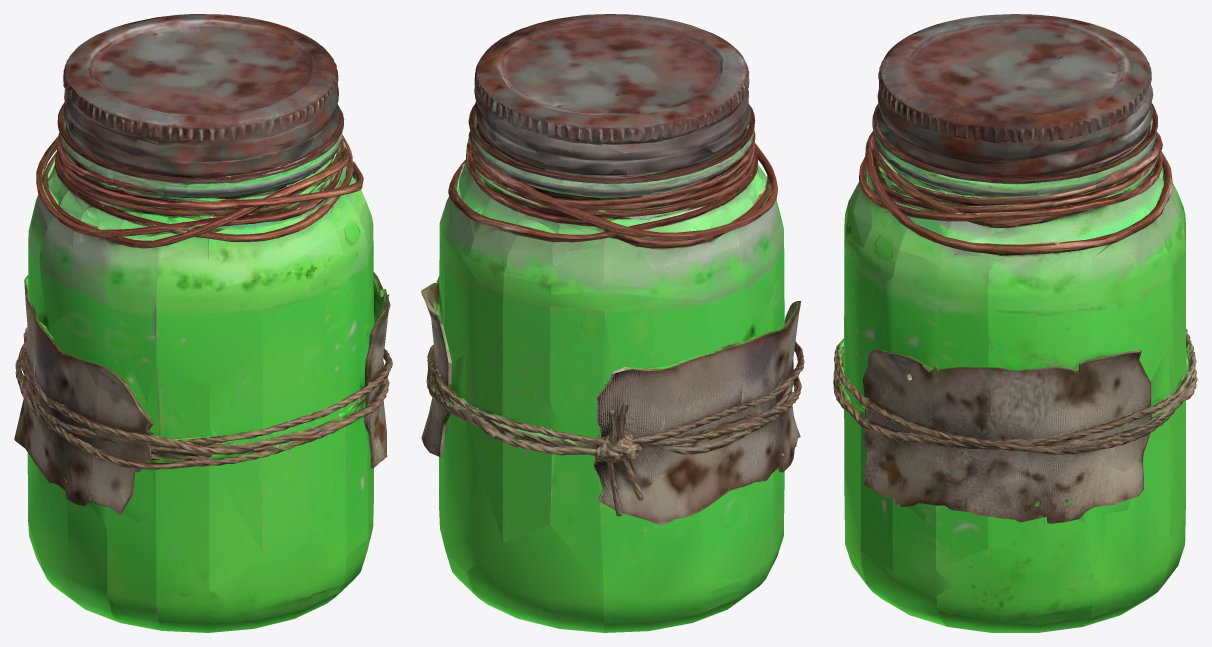
Rendered from prop-fueljar.glb.
3 views of the same model, side by side, from view 1: azimuth 30°, elevation 25°; view 2: azimuth 150°, elevation 25°; view 3: azimuth 270°, elevation 25° (orthographic).
Size of the model in its own units: 1.25 by 1.9 by 1.24.
Materials: 1 (1 with a texture image).
